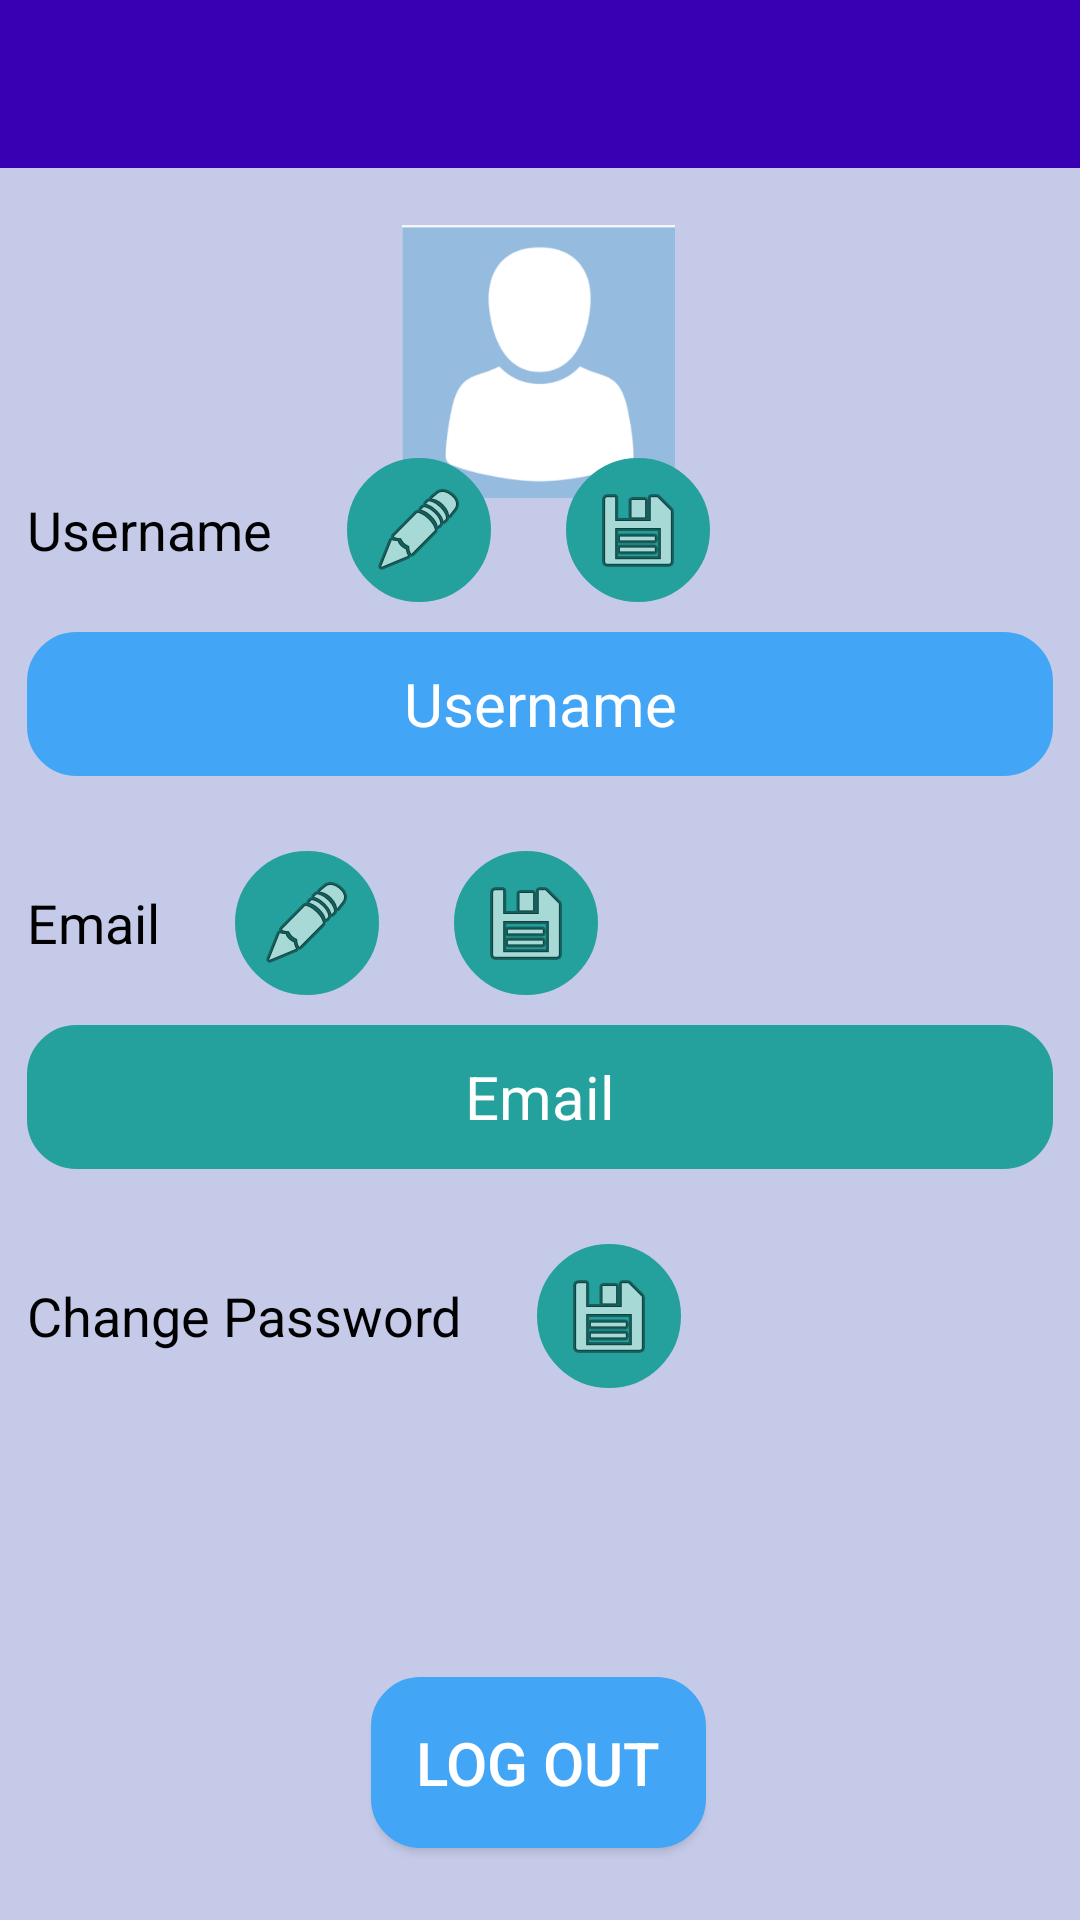

Icons on this 1080 x 1920 Android screen, each with the point to tap as (x=x, y=y):
edit: (x=419, y=530), (x=307, y=923)
save: (x=638, y=530), (x=526, y=923), (x=609, y=1316)
